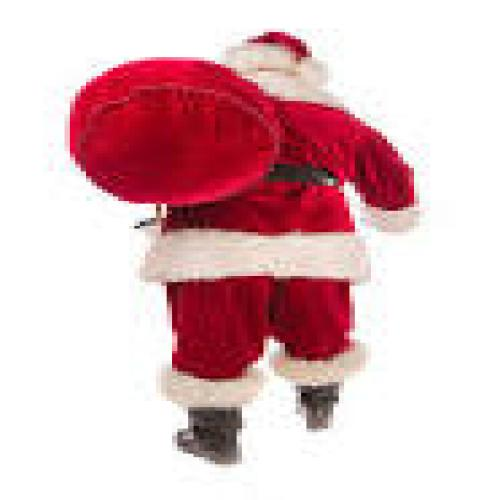Santa: (62, 31, 426, 472)
